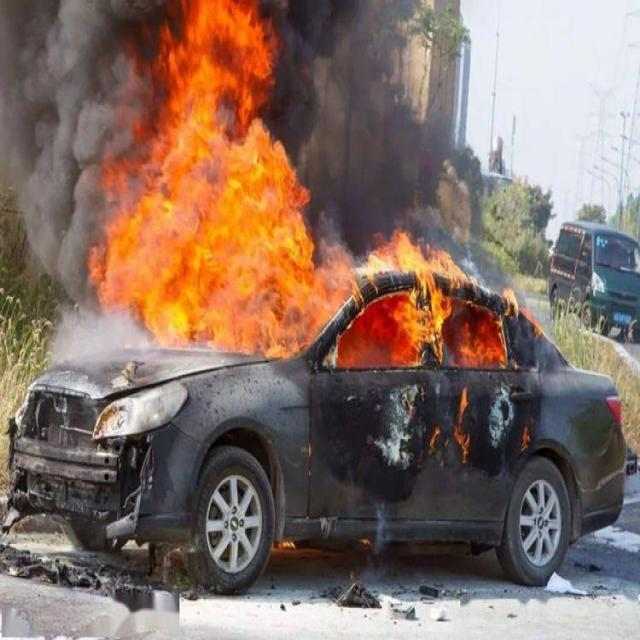Fire: (101, 0, 307, 354), (307, 246, 363, 330), (394, 280, 454, 356), (386, 224, 464, 278), (455, 293, 505, 369)
Smoke: (305, 0, 465, 223), (3, 0, 102, 313)
